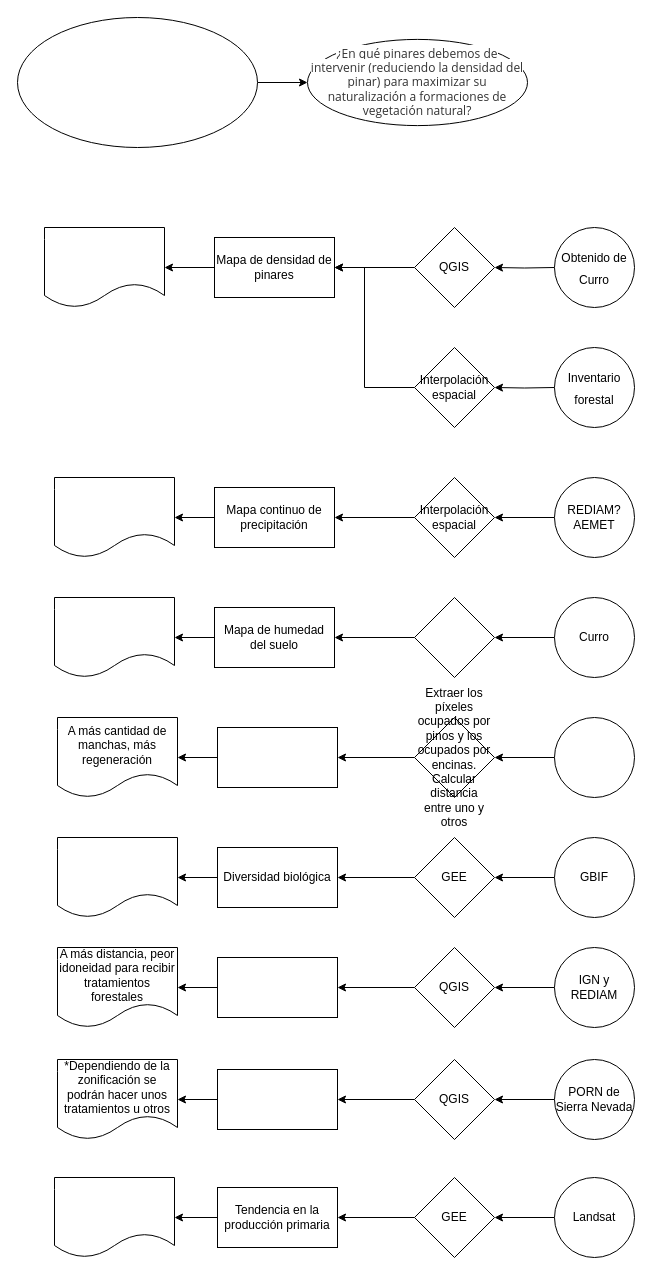
Image size: 652x1275. Some labels were removed from this diagram. Here are the shapes that lost their labels. From the top down, the centre of each, then its label:
At pixel 137 82: "PROYECTO ARMADILLO".
At pixel 104 267: "A densidades más bajas la regeneración es baja. A densidades altas también".
At pixel 114 517: "A más precipitación, más regeneración".
At pixel 114 637: "A más humedad, más regeneración".
At pixel 454 637: "Modelo hidrológico a partir del modelo digital de elevaciones".
At pixel 277 757: "Disponibilidad de manchas donadoras de propágulos".
At pixel 594 757: "MUCVA".
At pixel 117 877: "A más diversidad, más regeneración".
At pixel 277 987: "Distancia a vías de comunicación (carreteras y vías pecuarias)".
At pixel 277 1099: "Zonificación del territorio".
At pixel 114 1217: "A tendencias más positivas mayor regeneración".
